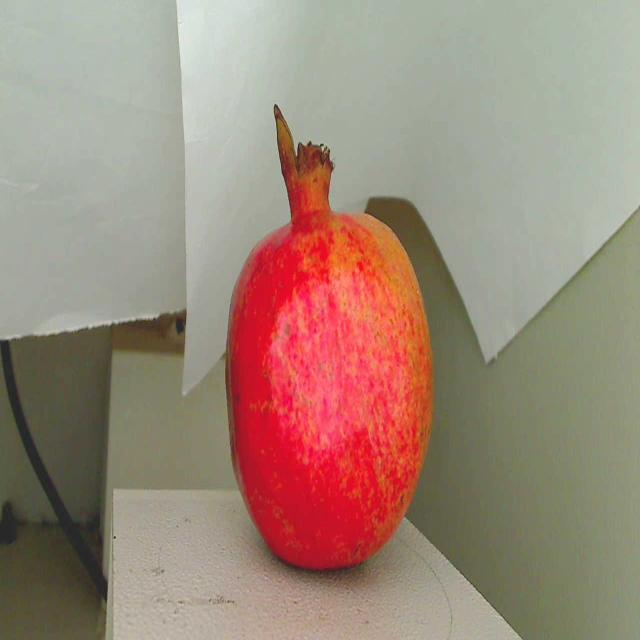pomegranate: (214, 91, 445, 580)
